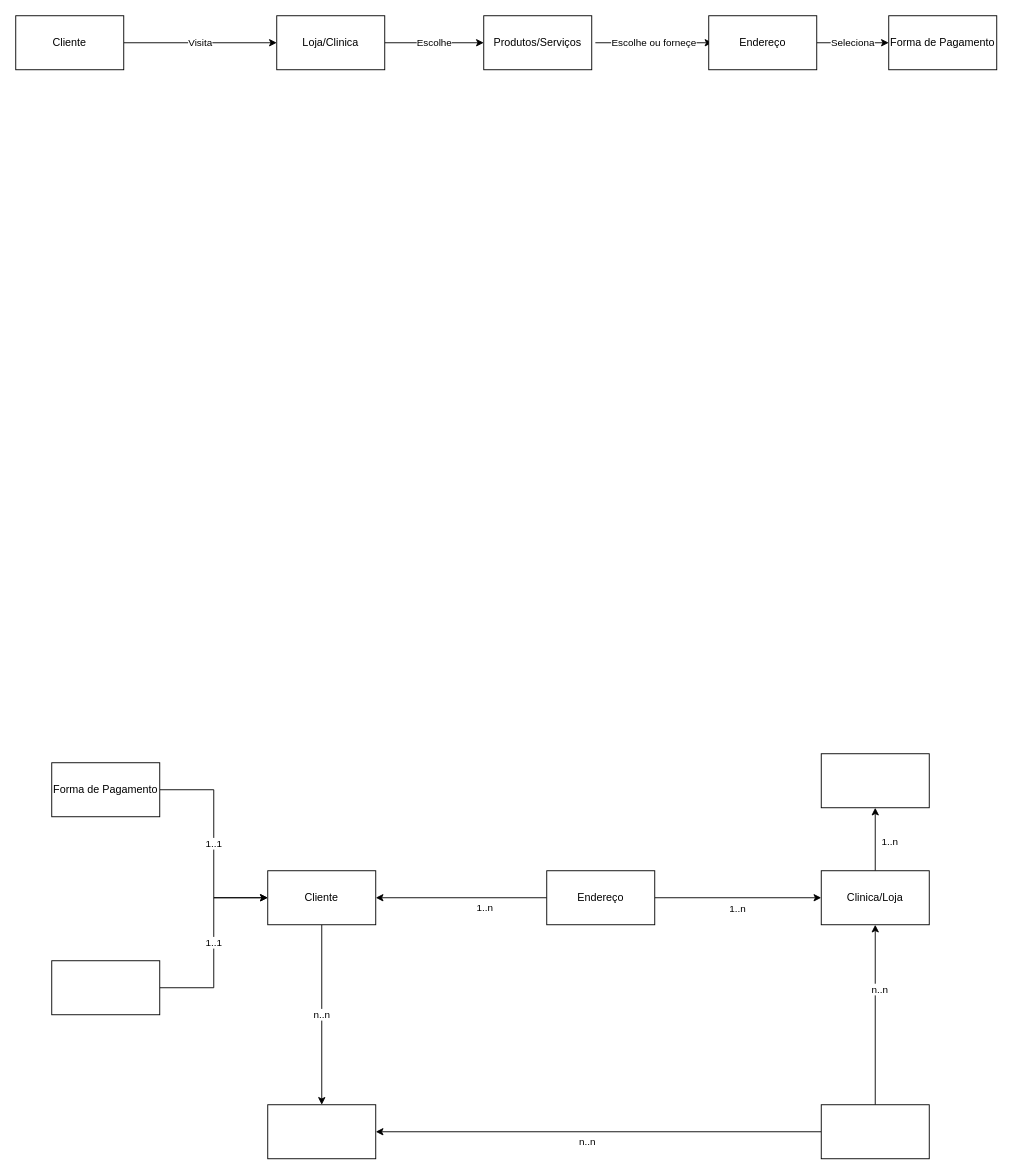
Some shapes in this 1013 by 1175 pixel diagram are drawn without their labels. Here are the shapes that lost their labels. From the top down, the box of each, then its label:
(820, 753, 929, 808): Parceiro
(51, 960, 160, 1015): Pet
(267, 1104, 376, 1159): Compra
(820, 1104, 929, 1159): Produto/Serviço
